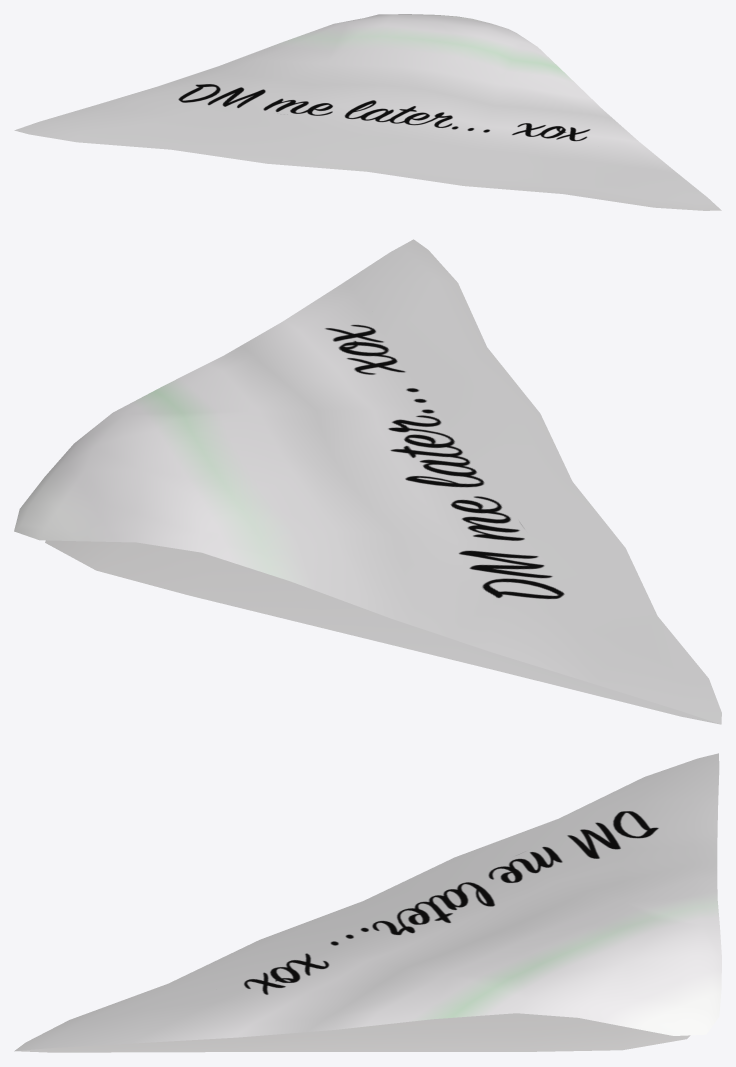
Rendered from napkinB.glb.
The picture shows the model from 3 angles, top to bottom: view 1: azimuth 30°, elevation 25°; view 2: azimuth 150°, elevation 25°; view 3: azimuth 270°, elevation 25°; orthographic projection. The views are drawn at different scales.
Parts seen in each view (by area): view 1: Plane.021, Plane.020; view 2: Plane.021, Plane.020; view 3: Plane.021, Plane.020.
Boxes of the visible parts, bbox=[...] form: Plane.021: bbox=[14, 14, 721, 210]; Plane.020: bbox=[178, 84, 590, 141]; Plane.021: bbox=[14, 239, 721, 724]; Plane.020: bbox=[325, 325, 564, 598]; Plane.021: bbox=[14, 753, 721, 1052]; Plane.020: bbox=[244, 811, 658, 994].
Size of the model in its own units: 0.6215 by 0.0568 by 0.6215.
2 materials, 2 textured.
